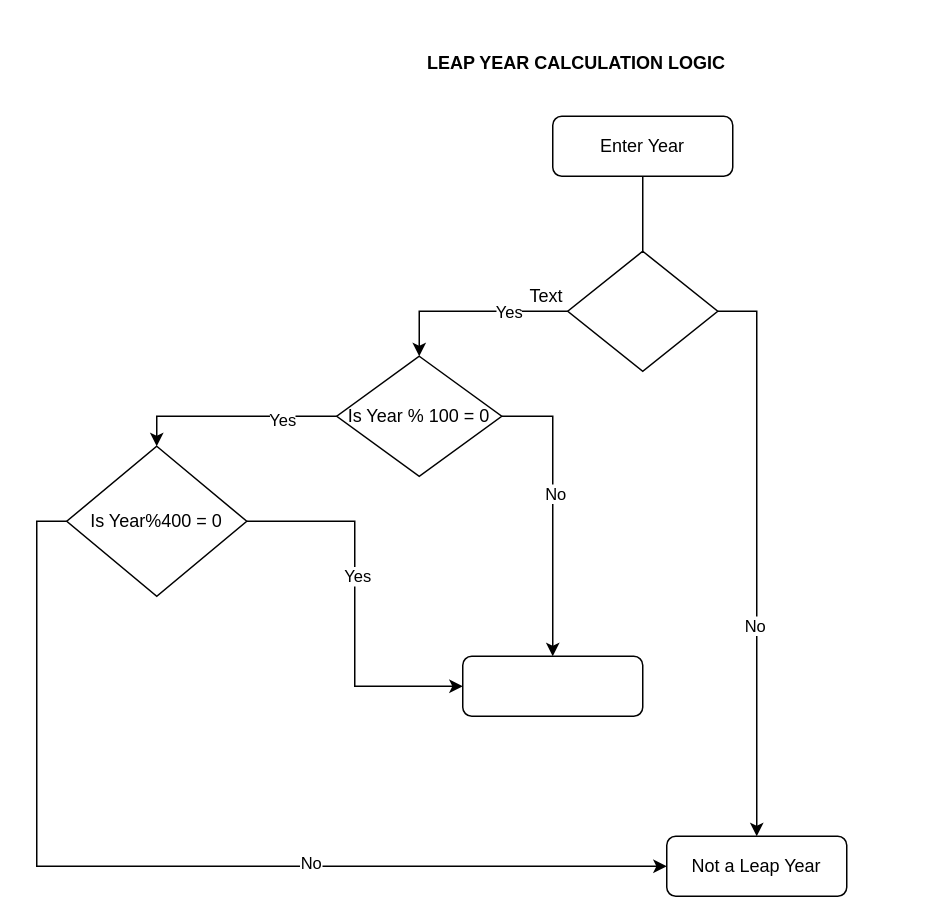
Some shapes in this 948 by 923 pixel diagram are drawn without their labels. The shapes that lost their labels are listed below. From the top down, each one's centre as x and y in pixels, then its label:
At point 642,310: "Is Year%4 = 0".
At point 552,685: "Leap Year".
